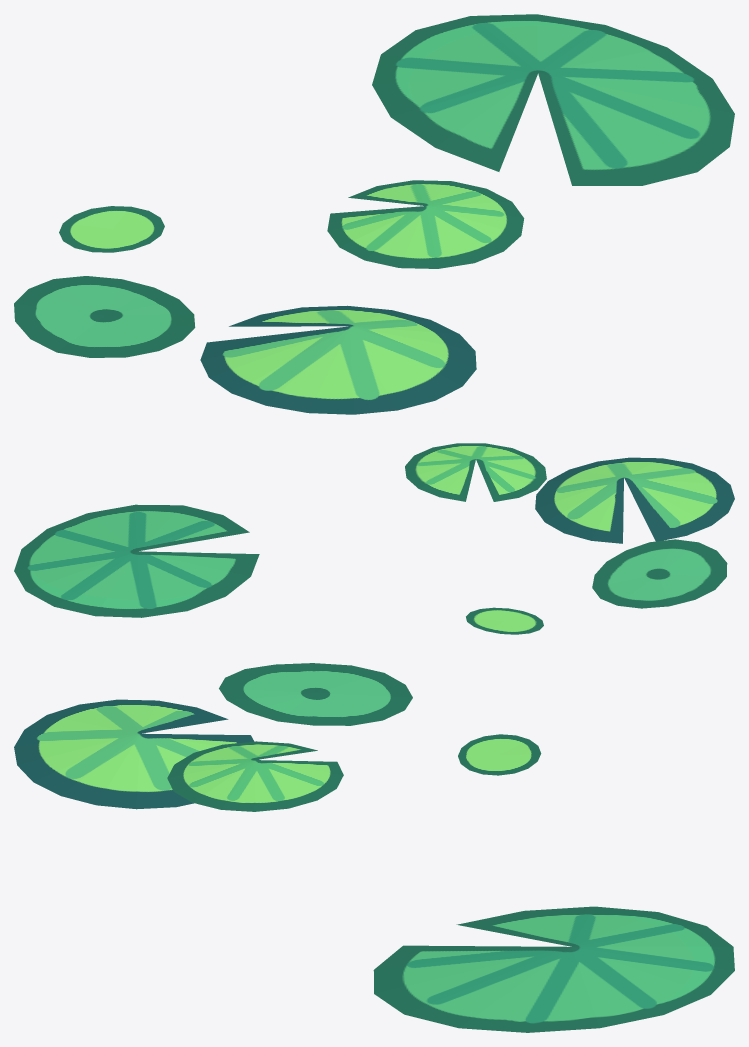
The picture shows the model from 3 angles, top to bottom: view 1: azimuth 30°, elevation 25°; view 2: azimuth 150°, elevation 25°; view 3: azimuth 270°, elevation 25°; orthographic projection. The views are drawn at different scales.
Visible parts, largest first — view 1: Lilypads.001, Circle.009, Lilypads.002, Lilypads.005, Lilypads.004; view 2: Lilypads.001, Circle.009, Lilypads.005, Lilypads.002, Lilypads.004; view 3: Lilypads.001, Circle.009, Lilypads.005, Lilypads.002, Lilypads.004.
Boxes of the visible parts, left/top/right/bottom form: Lilypads.001: left=372, top=14, right=734, bottom=185; Circle.009: left=200, top=305, right=476, bottom=414; Lilypads.002: left=327, top=180, right=524, bottom=268; Lilypads.005: left=14, top=276, right=195, bottom=357; Lilypads.004: left=59, top=206, right=164, bottom=252; Lilypads.001: left=14, top=504, right=259, bottom=617; Circle.009: left=535, top=457, right=734, bottom=543; Lilypads.005: left=592, top=539, right=727, bottom=608; Lilypads.002: left=405, top=443, right=546, bottom=501; Lilypads.004: left=466, top=607, right=543, bottom=634; Lilypads.001: left=373, top=906, right=734, bottom=1032; Circle.009: left=14, top=699, right=258, bottom=809; Lilypads.005: left=219, top=663, right=412, bottom=725; Lilypads.002: left=167, top=741, right=343, bottom=811; Lilypads.004: left=458, top=734, right=541, bottom=775.
Size of the model in its own units: 2.09 by 0.2426 by 1.83.
1 material, 1 textured.
